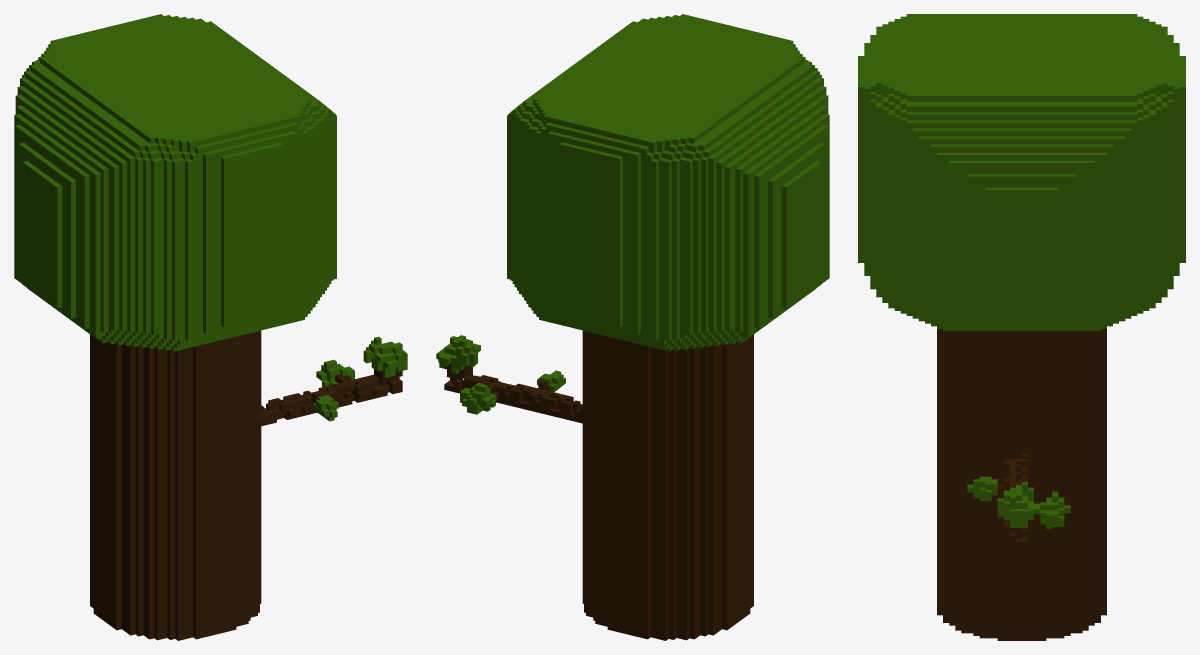
The model's file is Tree1.obj.
3 views of the same model, side by side, from view 1: azimuth 30°, elevation 25°; view 2: azimuth 150°, elevation 25°; view 3: azimuth 270°, elevation 25° (orthographic). The views are drawn at different scales.
Bounding box in the file's own units: 72 × 100 × 54.
